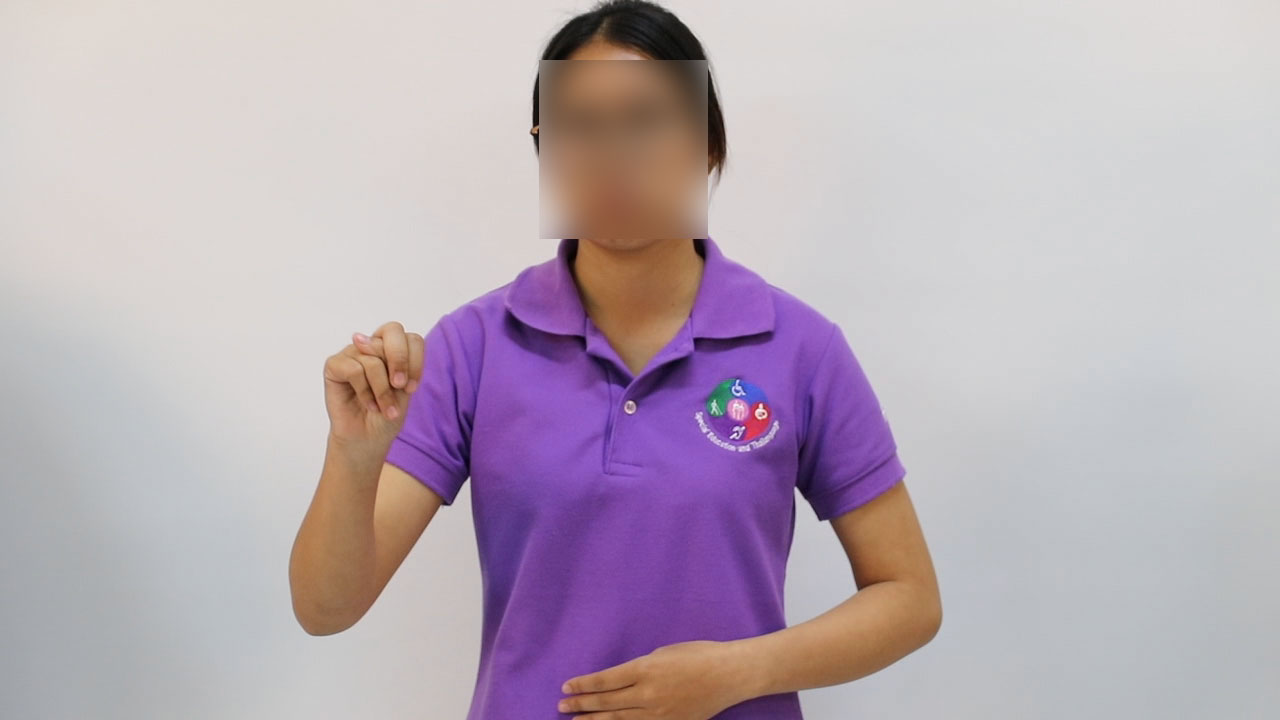nor: (303, 314, 434, 454)
